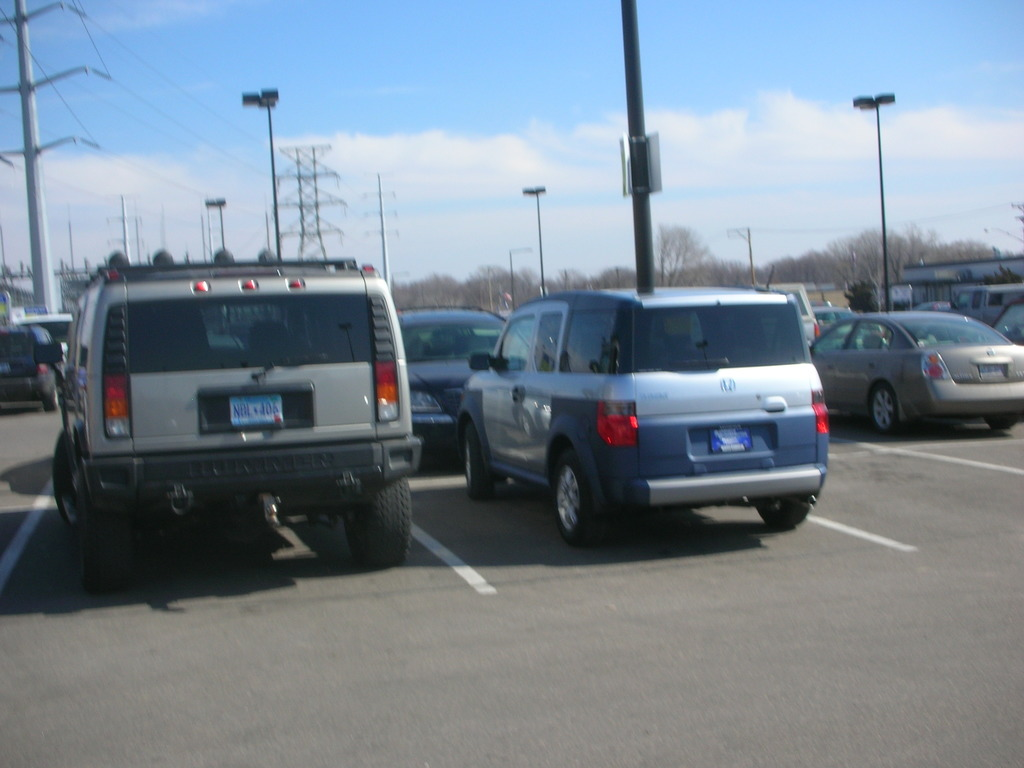mobil: (68, 270, 438, 559), (470, 293, 845, 547), (826, 298, 1024, 454)
